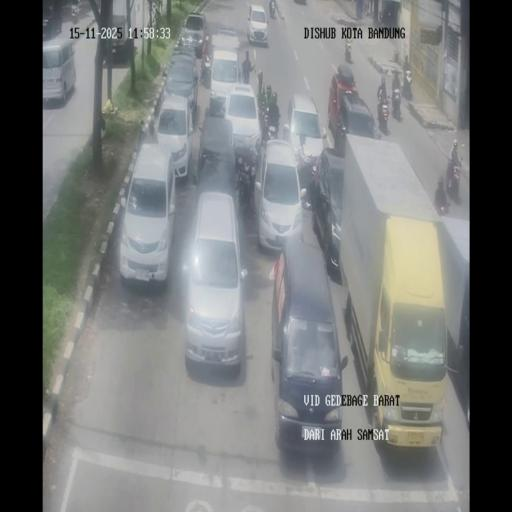3: (336, 140, 458, 446), (100, 2, 138, 62), (211, 28, 241, 54), (42, 1, 61, 40)
car: (270, 238, 343, 451), (183, 192, 247, 370), (119, 142, 176, 285), (330, 66, 378, 154), (314, 150, 344, 278), (284, 92, 326, 180), (154, 94, 194, 180), (222, 82, 262, 162), (42, 37, 77, 106), (164, 48, 197, 94), (180, 12, 210, 58), (247, 3, 268, 45)
truck: (236, 158, 255, 208), (446, 157, 462, 203), (267, 90, 280, 136), (377, 94, 390, 134), (257, 85, 267, 126), (401, 68, 413, 100), (260, 117, 271, 150), (391, 88, 402, 120), (435, 191, 449, 215), (200, 60, 211, 88), (344, 41, 353, 64), (220, 98, 228, 115), (72, 2, 79, 21), (269, 0, 276, 18), (362, 0, 369, 18), (404, 55, 410, 71), (378, 9, 383, 23)
